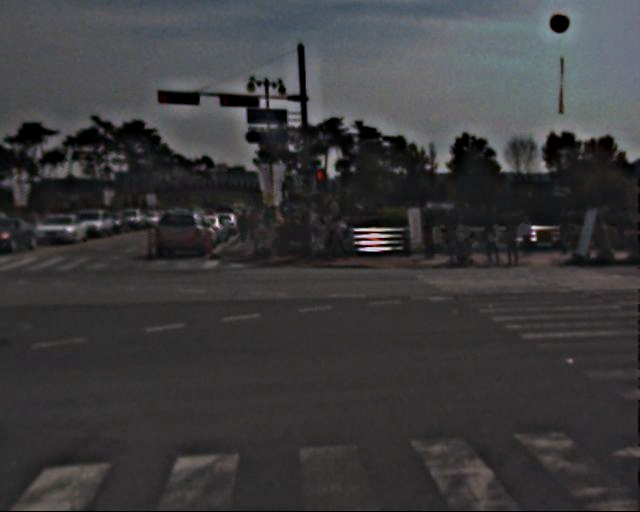person: (431, 218, 542, 263), (236, 212, 281, 243), (299, 208, 322, 263), (335, 213, 356, 263)
